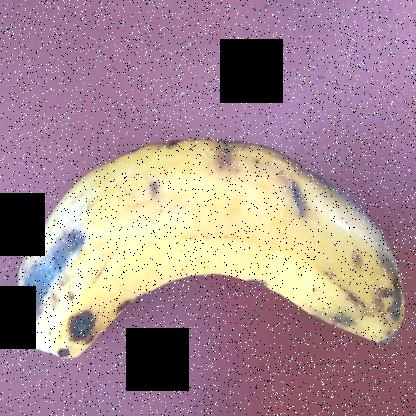ripe: (1, 132, 412, 408)
